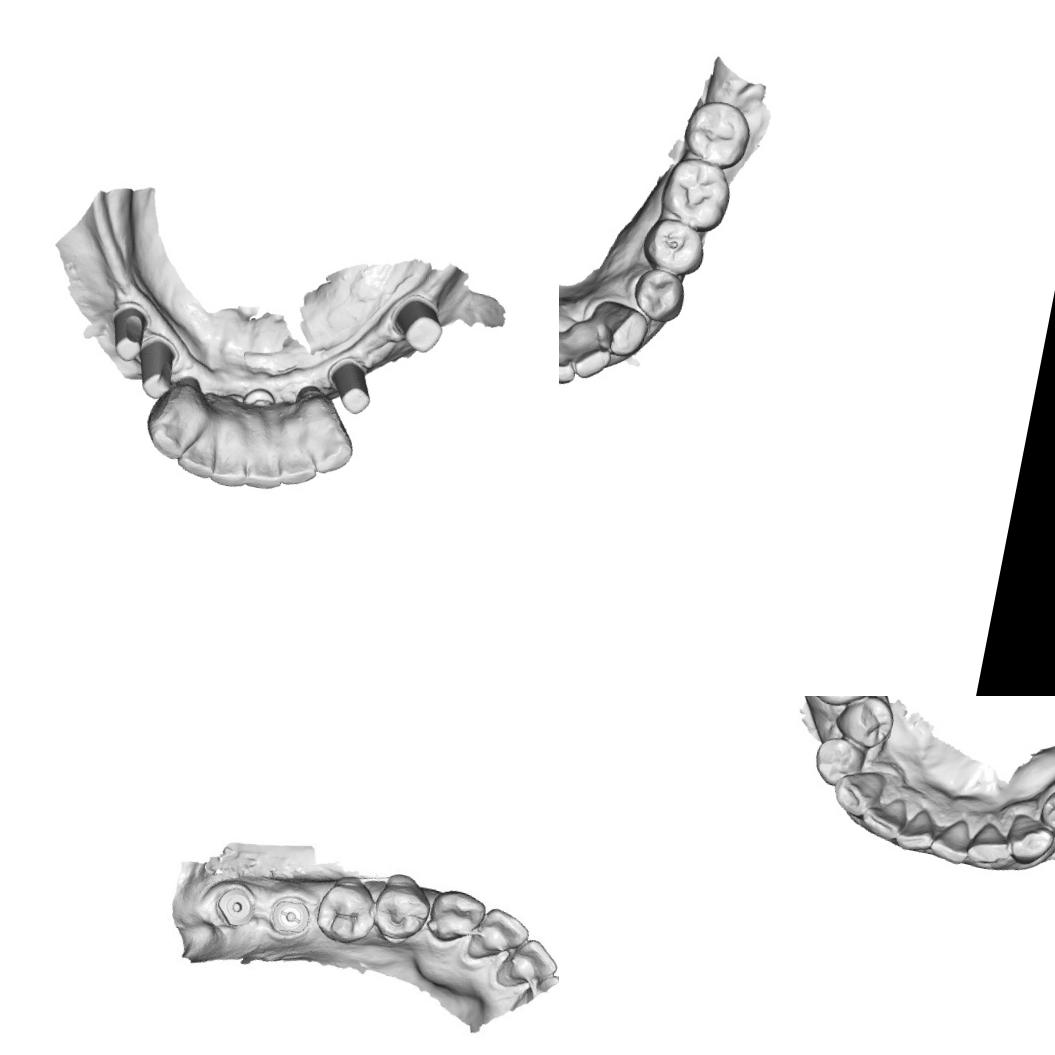abutment: (384, 290, 450, 356), (320, 354, 380, 418), (130, 332, 184, 402), (101, 300, 152, 370)
canine: (424, 884, 487, 952), (588, 297, 654, 361), (141, 394, 196, 462), (826, 763, 888, 822), (1002, 809, 1055, 869)
implant: (206, 872, 262, 934)
implant_minus: (262, 887, 316, 944)
incisor: (463, 902, 532, 970), (493, 929, 559, 995), (309, 414, 359, 481), (856, 790, 912, 843), (276, 434, 323, 494), (171, 429, 224, 482), (564, 330, 616, 384), (964, 819, 1014, 871), (927, 812, 975, 866), (892, 802, 939, 856), (240, 442, 288, 494), (208, 438, 252, 492), (559, 336, 582, 391)
molar: (656, 153, 736, 234), (677, 93, 756, 171)
premolar: (366, 873, 436, 950), (312, 872, 380, 948), (637, 212, 712, 278), (629, 265, 689, 326), (831, 696, 897, 751), (808, 734, 868, 790), (1032, 781, 1055, 842)
